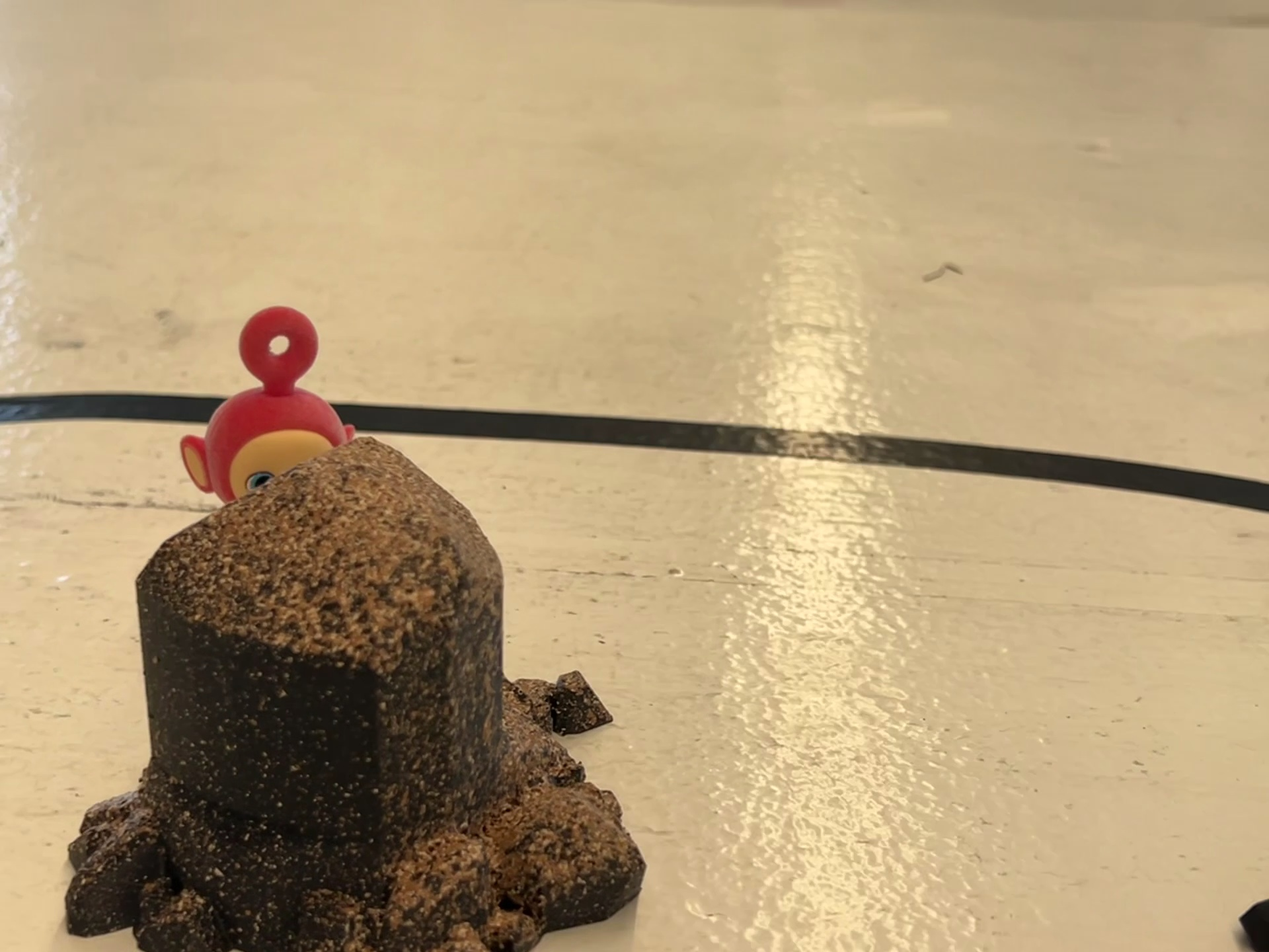teletubby: (180, 306, 355, 502)
